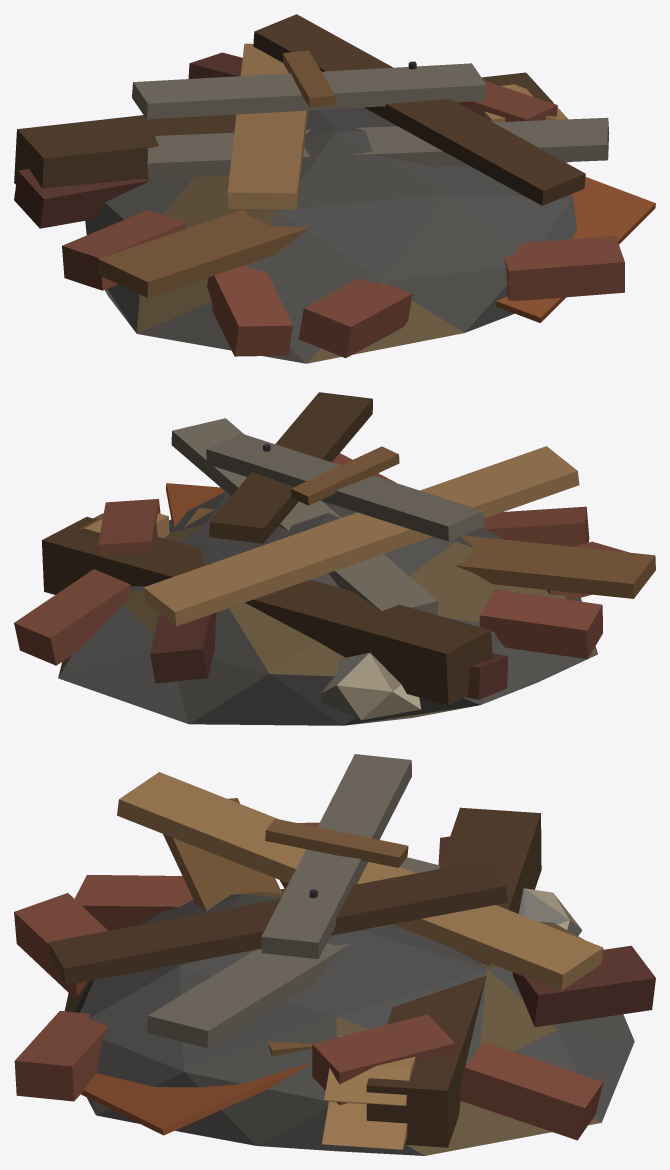
Rendered from ruin_debris_b.fbx.
The picture shows the model from 3 angles, top to bottom: view 1: azimuth 30°, elevation 25°; view 2: azimuth 150°, elevation 25°; view 3: azimuth 270°, elevation 25°; orthographic projection. The views are drawn at different scales.
Visible parts, largest first — view 1: ruin_debris_b; view 2: ruin_debris_b; view 3: ruin_debris_b.
Part boxes in pixels (x1=…): ruin_debris_b: x1=14, y1=14, x2=655, y2=363; ruin_debris_b: x1=14, y1=392, x2=655, y2=725; ruin_debris_b: x1=14, y1=754, x2=655, y2=1155.
Bounding box in the file's own units: 1.16 × 0.3633 × 1.09.
